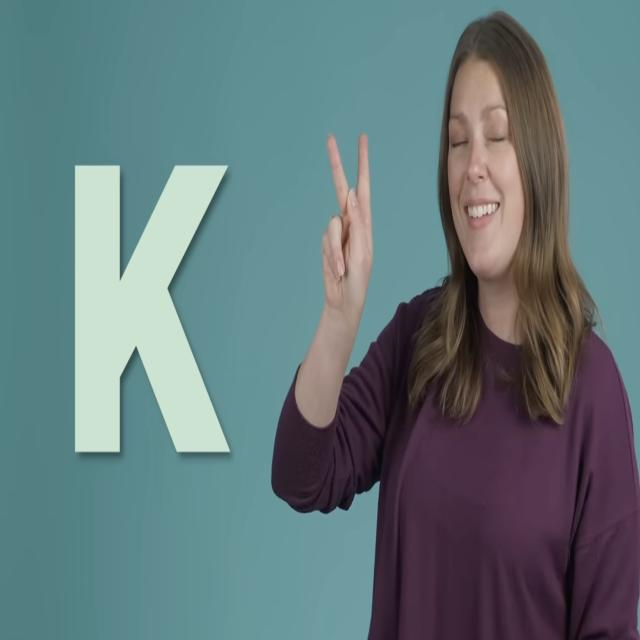K: (298, 116, 401, 338)
